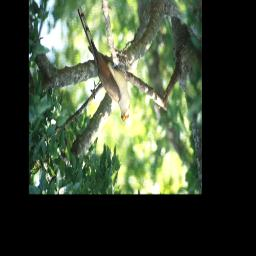Cuckoo: (76, 4, 131, 125)
